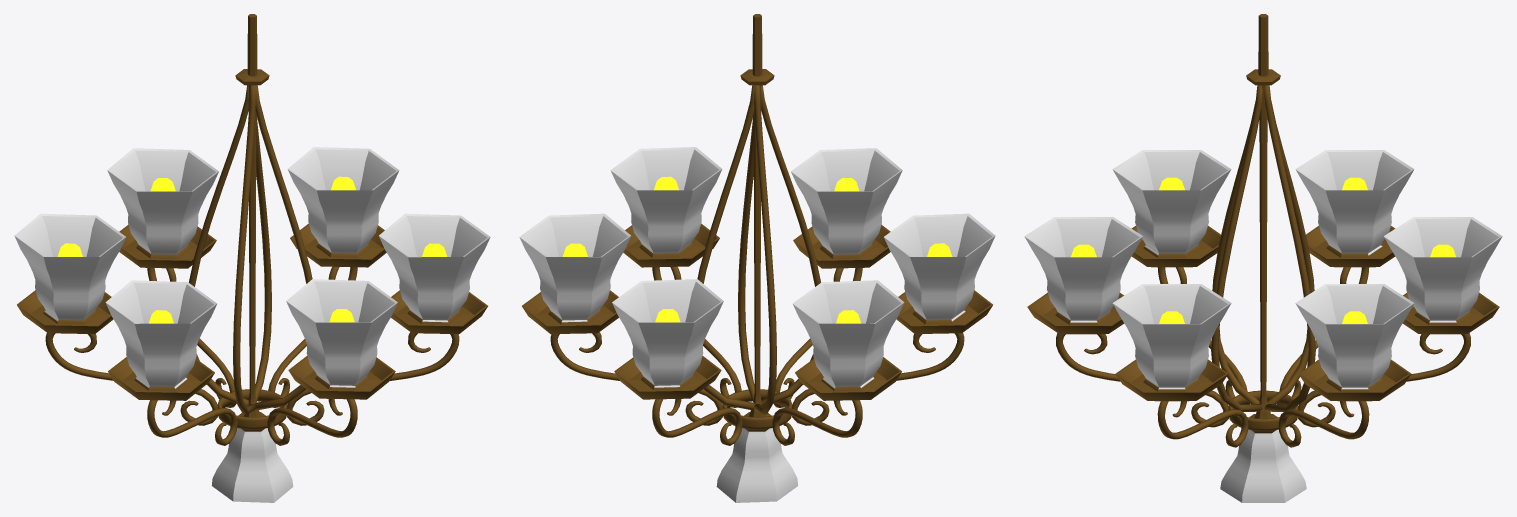
File: Chandelier.fbx
3 views of the same model, side by side, from view 1: azimuth 30°, elevation 25°; view 2: azimuth 150°, elevation 25°; view 3: azimuth 270°, elevation 25° (orthographic).
Parts seen in each view (by area): view 1: Chandelier; view 2: Chandelier; view 3: Chandelier.
Boxes of the visible parts, x1,y1,x2,y2 form: Chandelier: (14,14,490,502); Chandelier: (519,14,995,502); Chandelier: (1024,14,1502,502).
Bounding box in the file's own units: 88.98 × 113 × 103.
